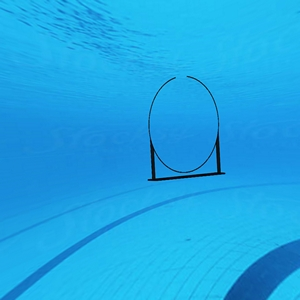circle: (146, 74, 227, 184)
